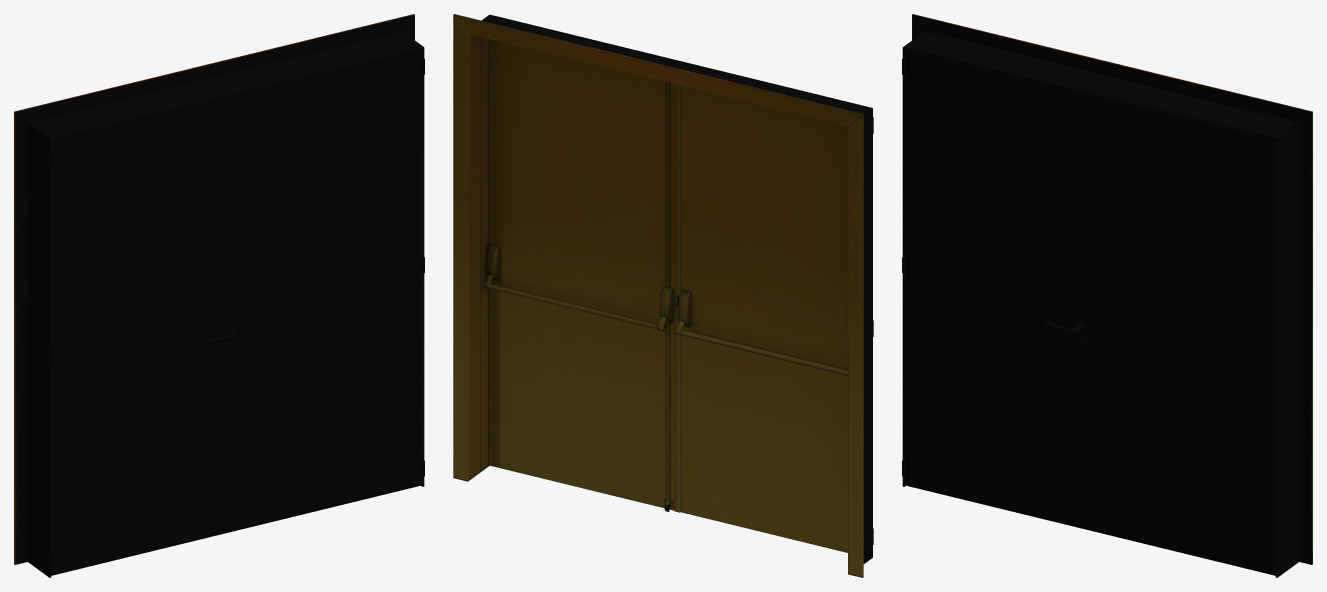
Rendered from exit-door.glb.
3 views of the same model, side by side, from view 1: azimuth 30°, elevation 25°; view 2: azimuth 150°, elevation 25°; view 3: azimuth 330°, elevation 25° (orthographic). The views are drawn at different scales.
Parts seen in each view (by area): view 1: body; view 2: body; view 3: body.
Part boxes in pixels (x1,y1,x2,y2): body: (14,14,424,577); body: (453,14,873,577); body: (902,14,1312,577).
Bounding box in the file's own units: 2.11 × 2.28 × 0.2846.
1 material, 1 textured.
